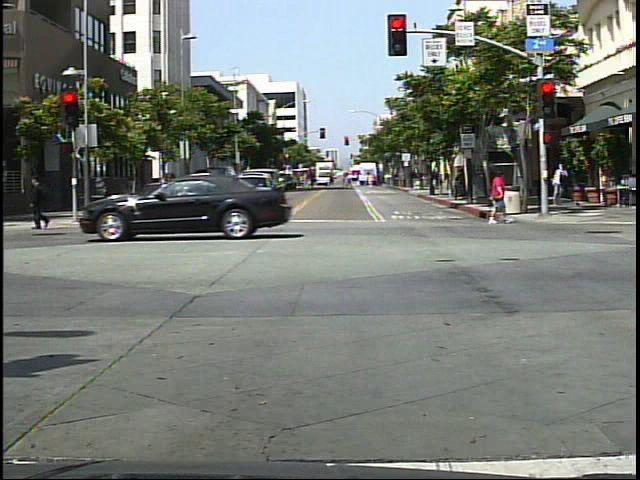person: (25, 168, 58, 234), (160, 171, 193, 235), (482, 169, 515, 230), (549, 160, 571, 207)
